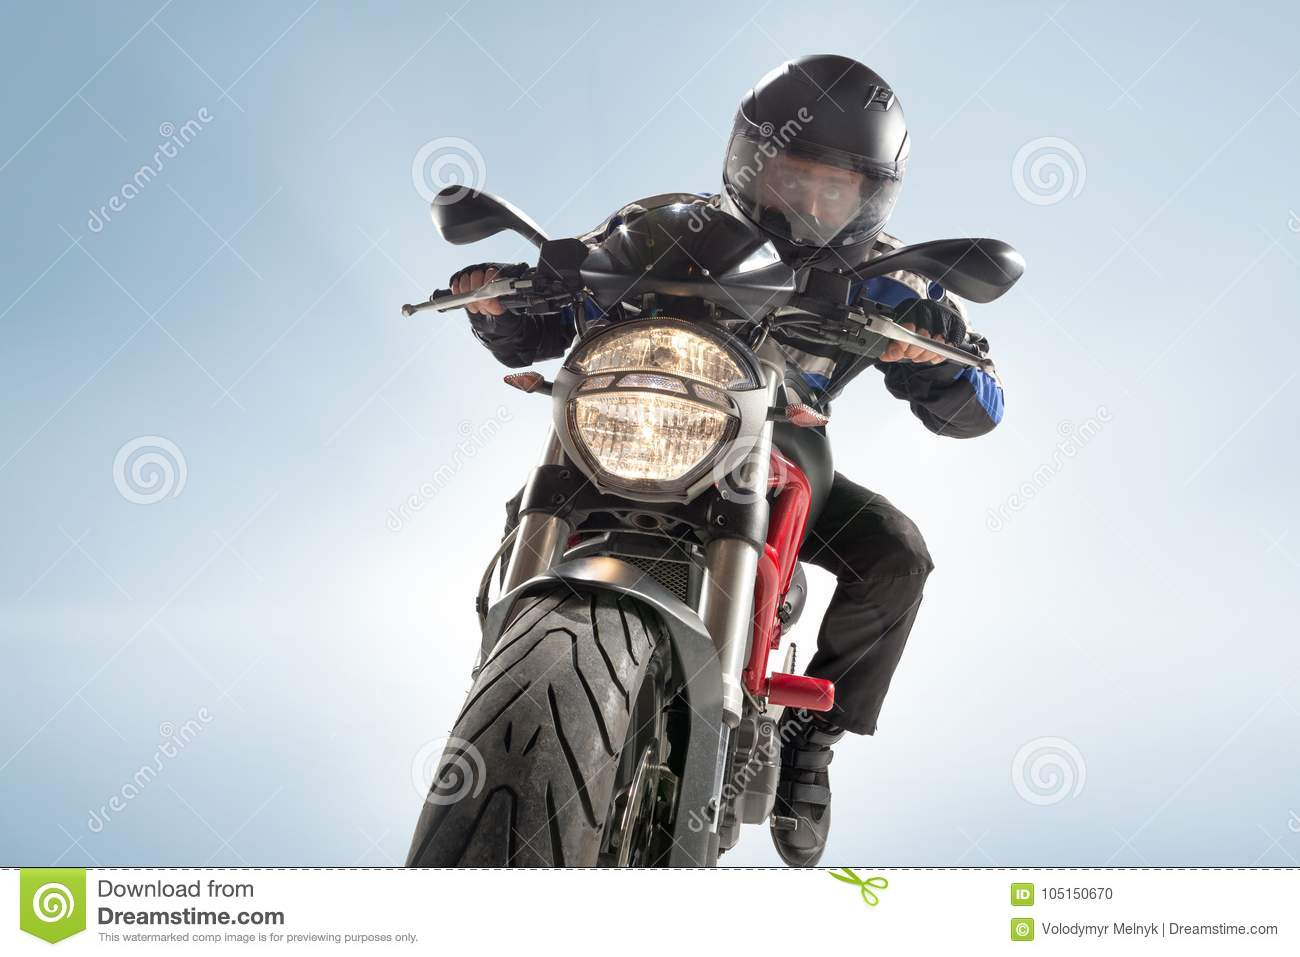helmet: (720, 45, 908, 273)
